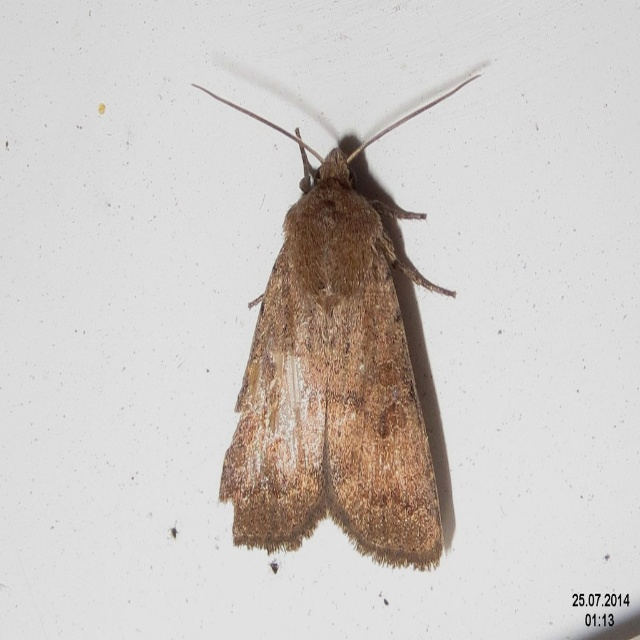Moths and butterflies: (188, 71, 481, 572)
